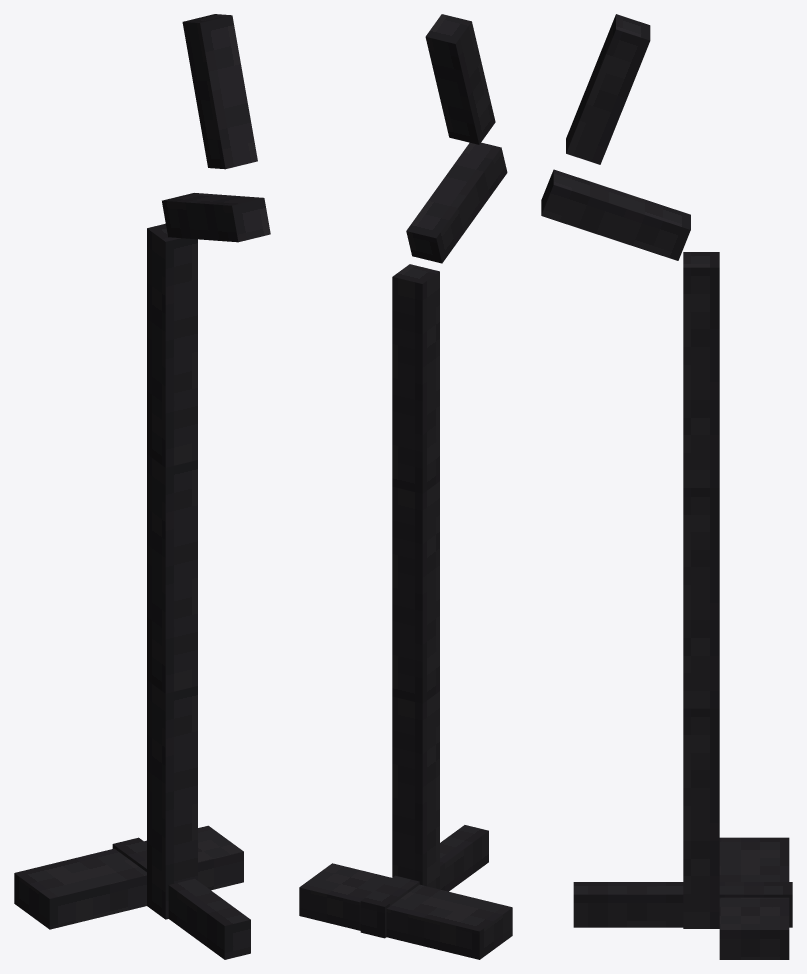
Rendered from micStand.glb.
The picture shows the model from 3 angles, left to right: view 1: azimuth 30°, elevation 25°; view 2: azimuth 150°, elevation 25°; view 3: azimuth 270°, elevation 25°; orthographic projection. The views are drawn at different scales.
Visible parts, largest first — view 1: micStand_0; view 2: micStand_0; view 3: micStand_0.
Part boxes in pixels (bbox=[...]): micStand_0: bbox=[14, 14, 270, 959]; micStand_0: bbox=[299, 14, 512, 959]; micStand_0: bbox=[541, 14, 792, 959].
Bounding box in the file's own units: 0.375 × 1.7 × 0.4309.
Materials: 1 (1 with a texture image).
